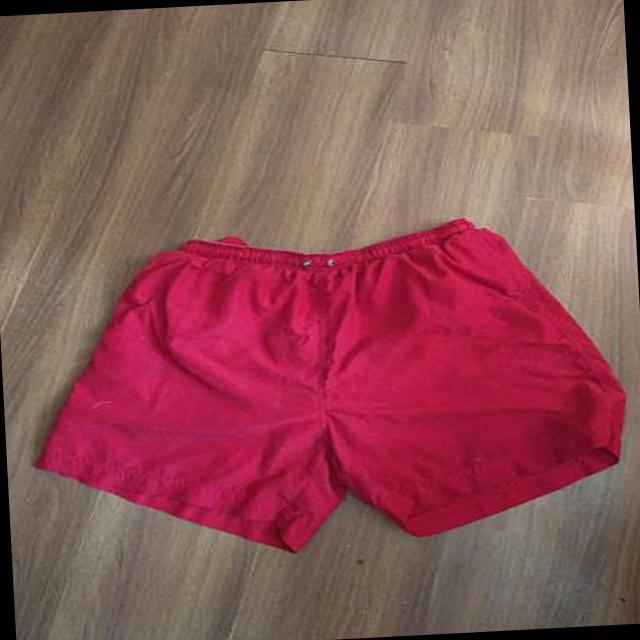SHORT: (14, 192, 637, 578)
